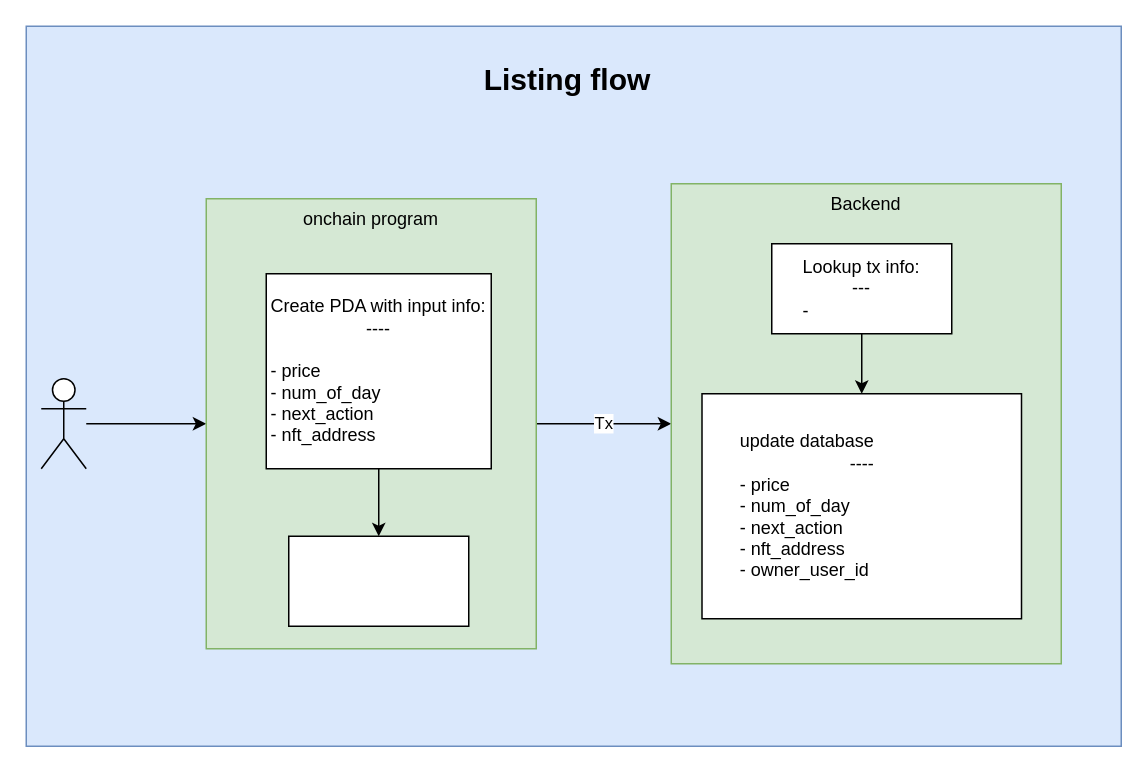
The diagram is 1148 pixels wide and 773 high, and some of its shapes have lost their labels. Each missing label, with the centre of its shape:
Actor: the point at 63,423
Send NFT to PDA: the point at 378,580
